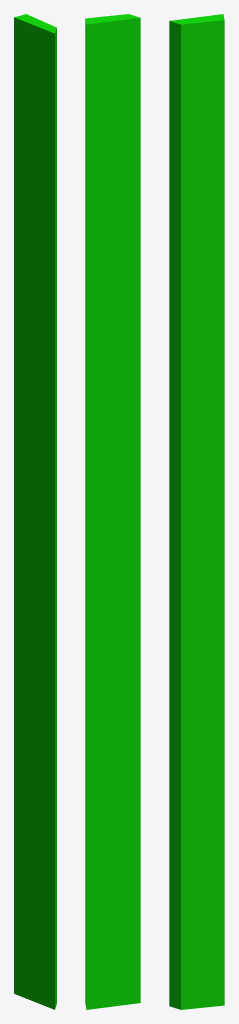
3 views of the same model, side by side, from view 1: azimuth 90°, elevation 25°; view 2: azimuth 150°, elevation 25°; view 3: azimuth 330°, elevation 25° (orthographic).
Parts seen in each view (by area): view 1: Cube.020; view 2: Cube.020; view 3: Cube.020.
Boxes of the visible parts, x1,y1,x2,y2 form: Cube.020: (14,14,56,1009); Cube.020: (85,14,140,1009); Cube.020: (169,14,224,1009).
Size of the model in its own units: 204 by 4742 by 188.
